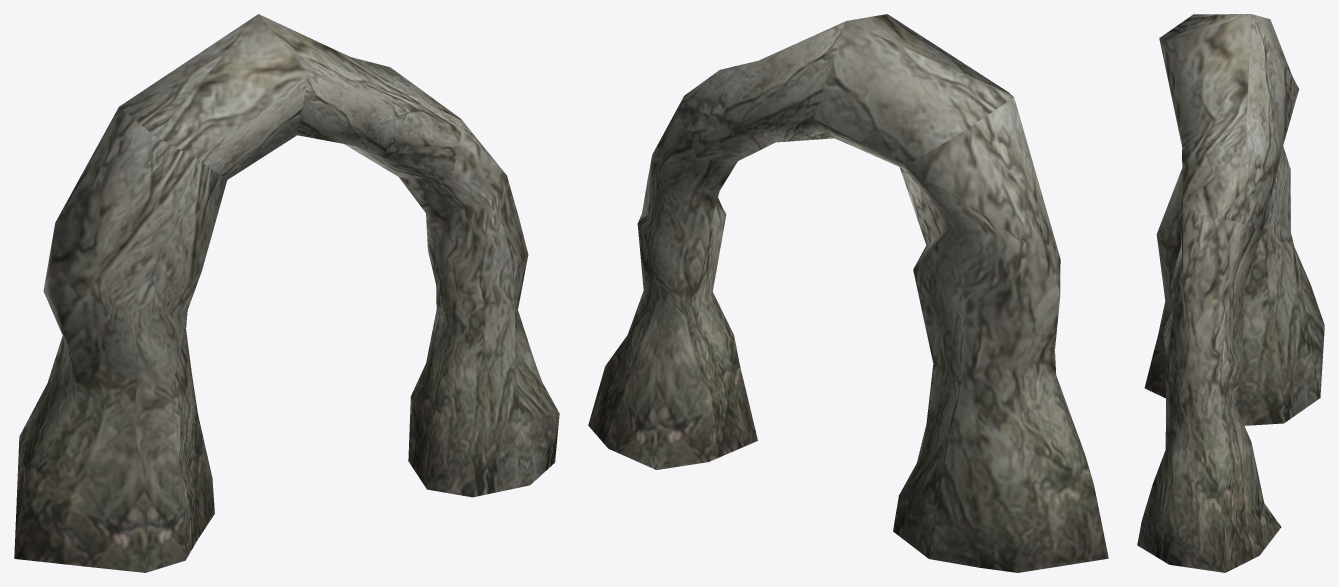
File: DN_lv3_hd_stone03.FBX
The picture shows the model from 3 angles, left to right: view 1: azimuth 30°, elevation 25°; view 2: azimuth 150°, elevation 25°; view 3: azimuth 270°, elevation 25°; orthographic projection. The views are drawn at different scales.
Parts seen in each view (by area): view 1: DN_lv3_hd_stone03; view 2: DN_lv3_hd_stone03; view 3: DN_lv3_hd_stone03.
Boxes of the visible parts, bbox=[...] form: DN_lv3_hd_stone03: bbox=[14, 14, 559, 572]; DN_lv3_hd_stone03: bbox=[588, 14, 1108, 572]; DN_lv3_hd_stone03: bbox=[1137, 14, 1324, 572].
Bounding box in the file's own units: 1969 × 1720 × 667.
